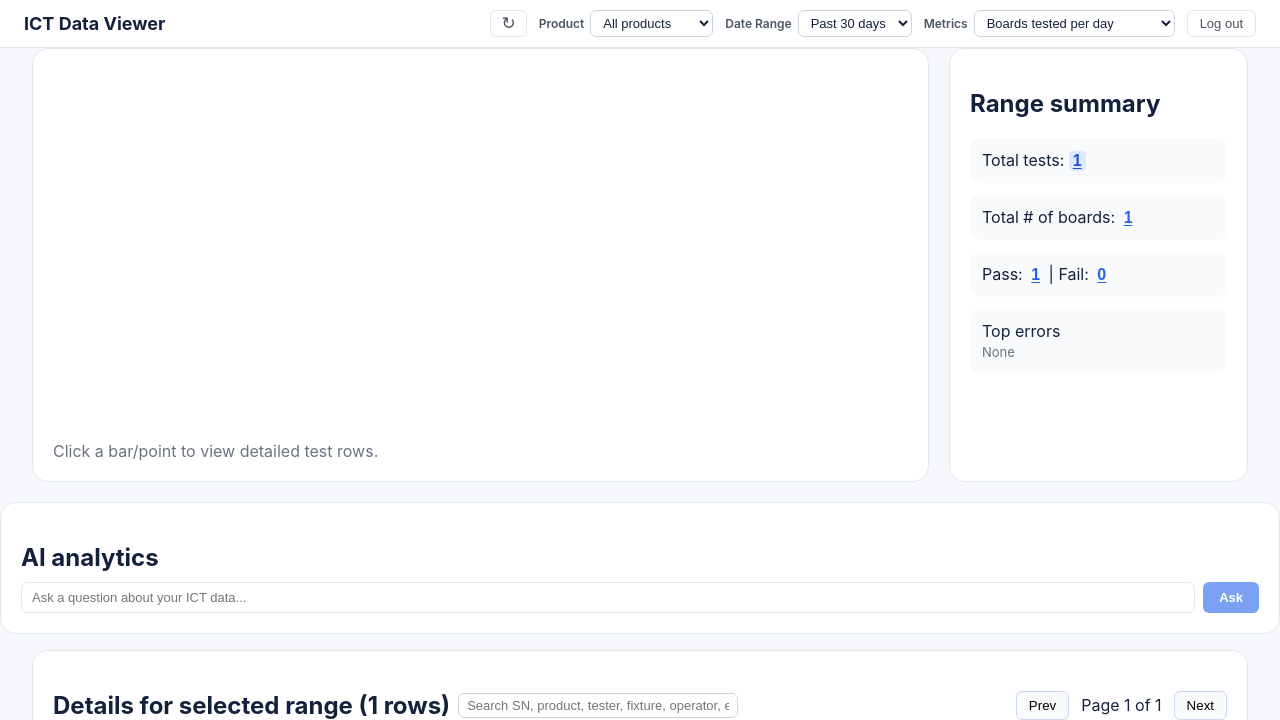
it: HomePage › error and timeout behaviour › keeps existing summary data when a subsequent /api/tests fetch fails
This screenshot has width=1280, height=720.
Click the button titled "Reload data" at [509, 24], box x1=490 y1=10 x2=527 y2=37
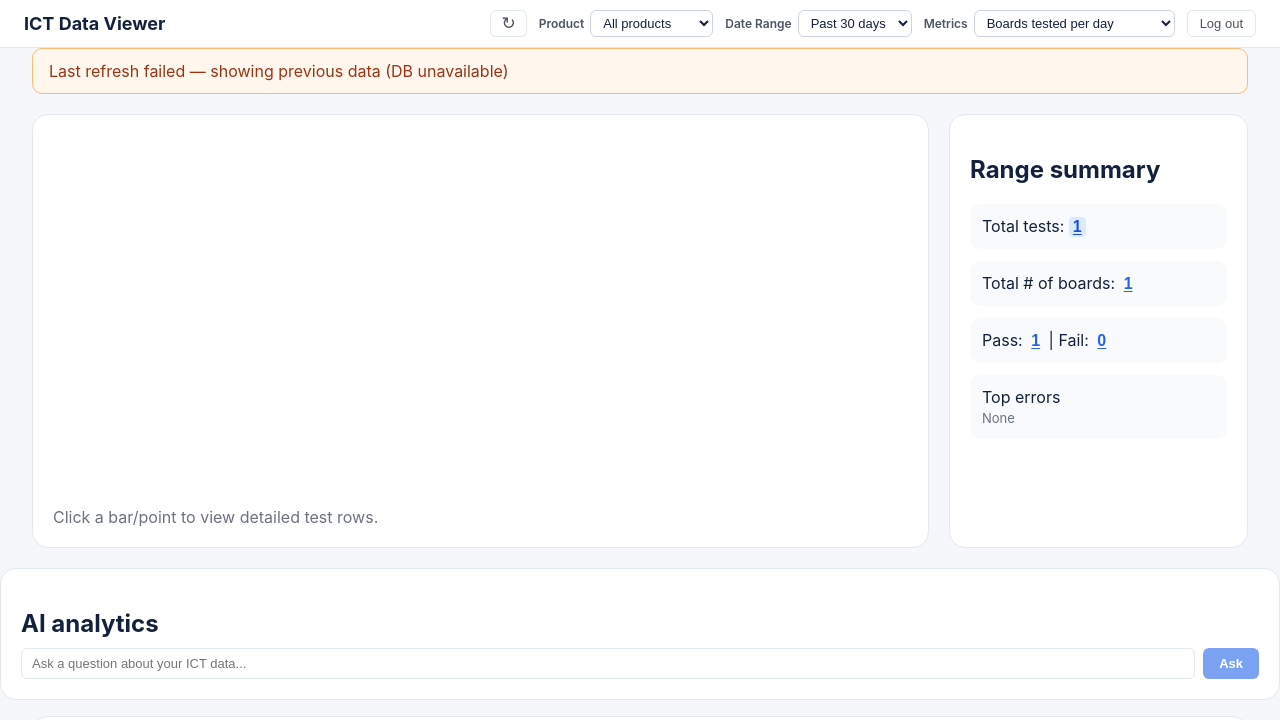
expect the text "Last refresh failed — showing previous data (DB unavailable)" is shown: met, box x1=32 y1=48 x2=1248 y2=94
